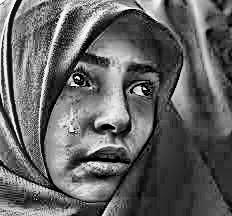sad: (48, 39, 157, 197)
